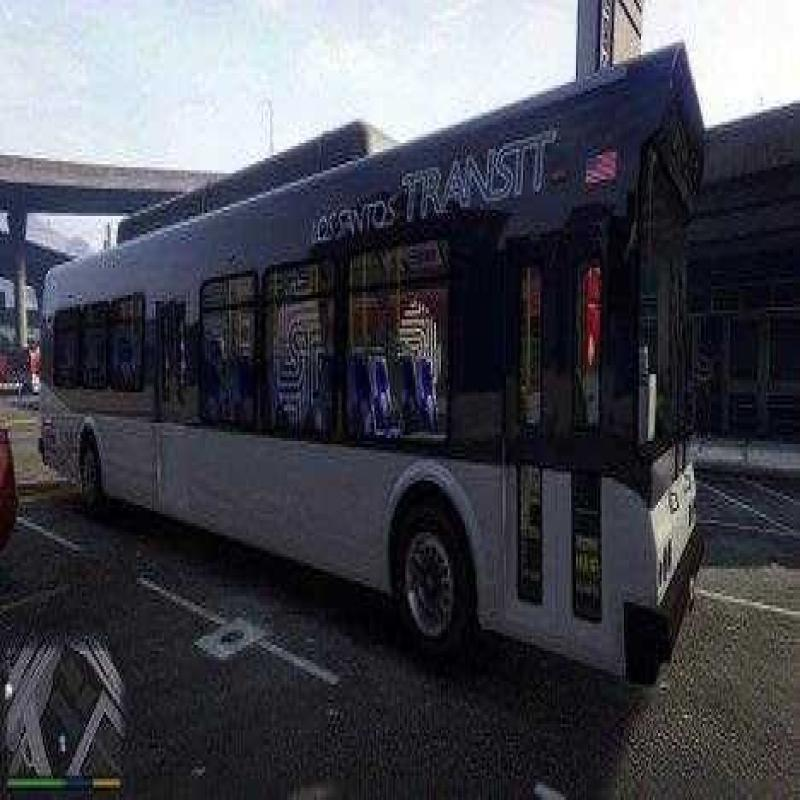bus: (31, 18, 744, 746)
